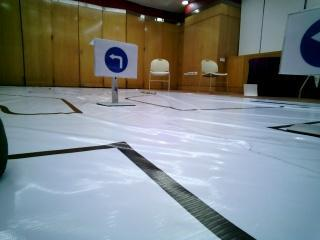left: (96, 42, 140, 75)
